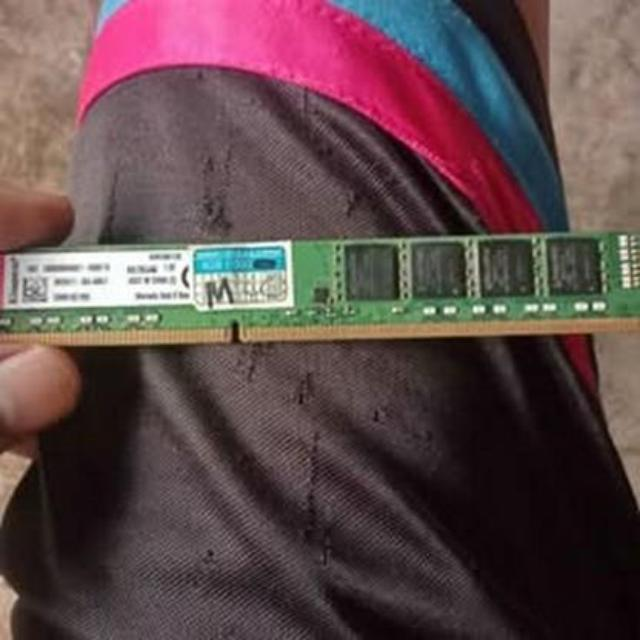RAM: (0, 226, 640, 348)
